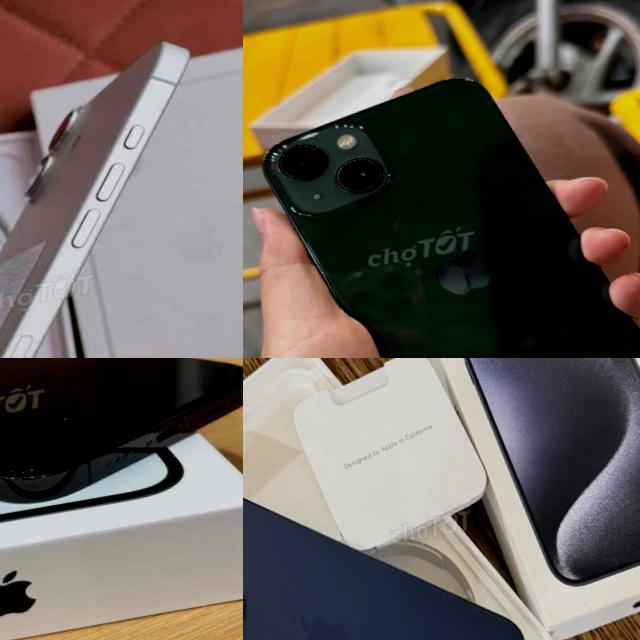scratch: (0, 452, 71, 489), (132, 424, 168, 460), (56, 414, 79, 424)
